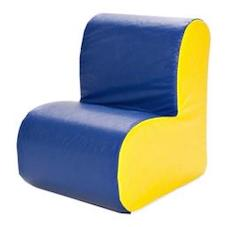chair: (2, 4, 220, 216)
